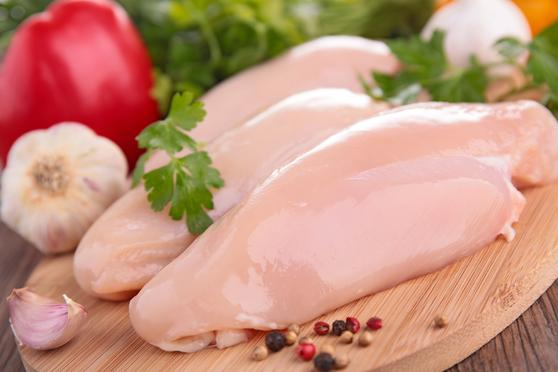chicken_fillet: (124, 101, 547, 356)
